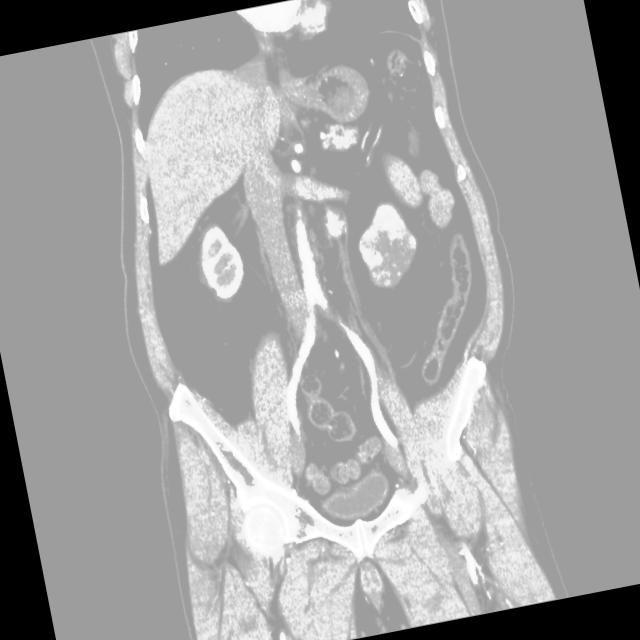TUMOR: (160, 167, 461, 339)
